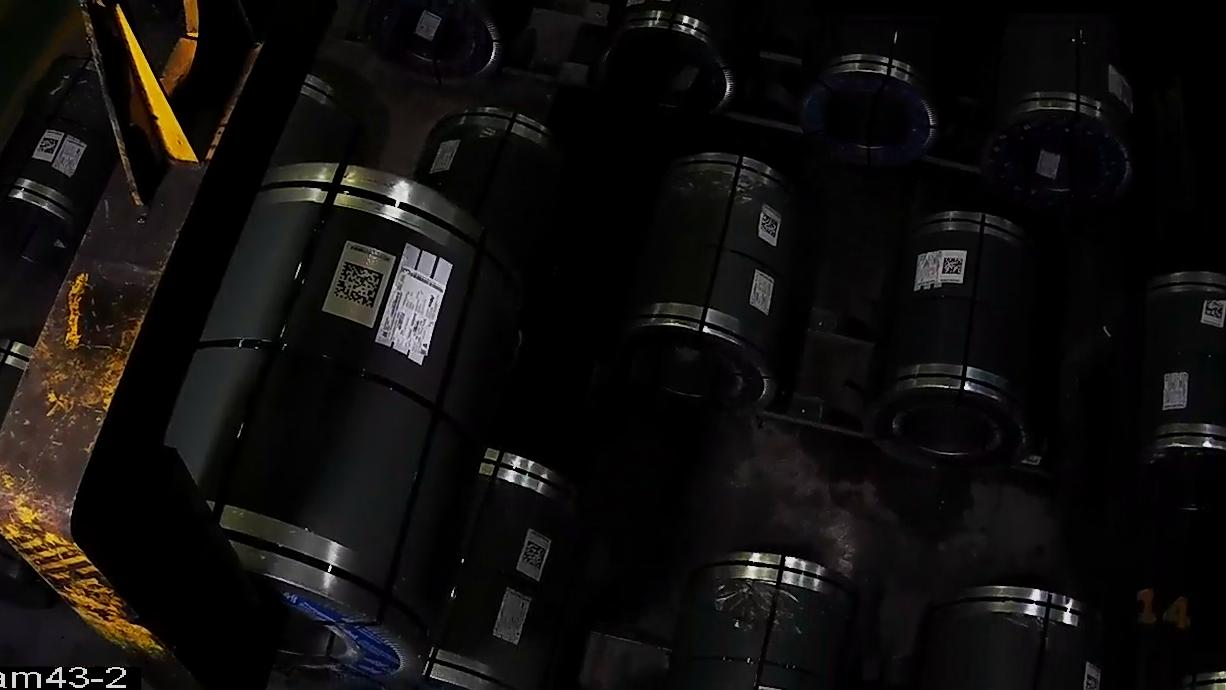data matrix: (329, 257, 388, 313), (518, 538, 552, 576), (757, 211, 782, 239), (1201, 297, 1226, 324), (34, 135, 61, 158), (940, 255, 967, 277)
